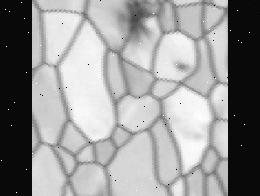good_void: (112, 0, 165, 48), (171, 114, 200, 143), (84, 185, 117, 196), (170, 60, 191, 75)
